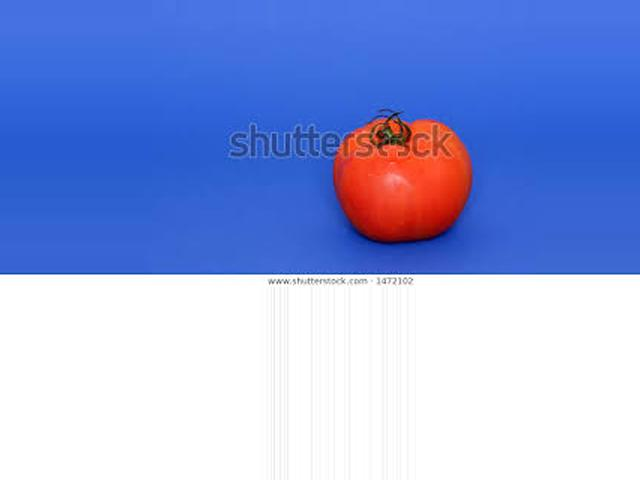tomato: (335, 117, 474, 240)
